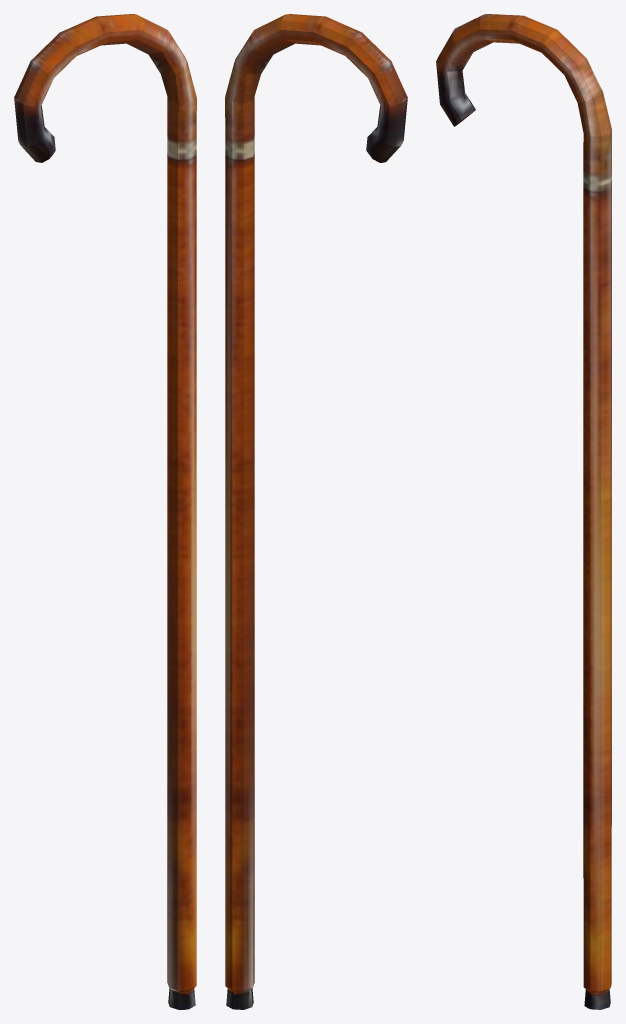
File: Canne.fbx
3 views of the same model, side by side, from view 1: azimuth 30°, elevation 25°; view 2: azimuth 150°, elevation 25°; view 3: azimuth 330°, elevation 25° (orthographic). The views are drawn at different scales.
Visible parts, largest first — view 1: pCylinder2; view 2: pCylinder2; view 3: pCylinder2.
Part boxes in pixels (<box>): pCylinder2: <box>14,14,196,1009</box>; pCylinder2: <box>225,14,407,1009</box>; pCylinder2: <box>436,14,611,1009</box>.
Bounding box in the file's own units: 1.57 × 8.48 × 0.2336.
